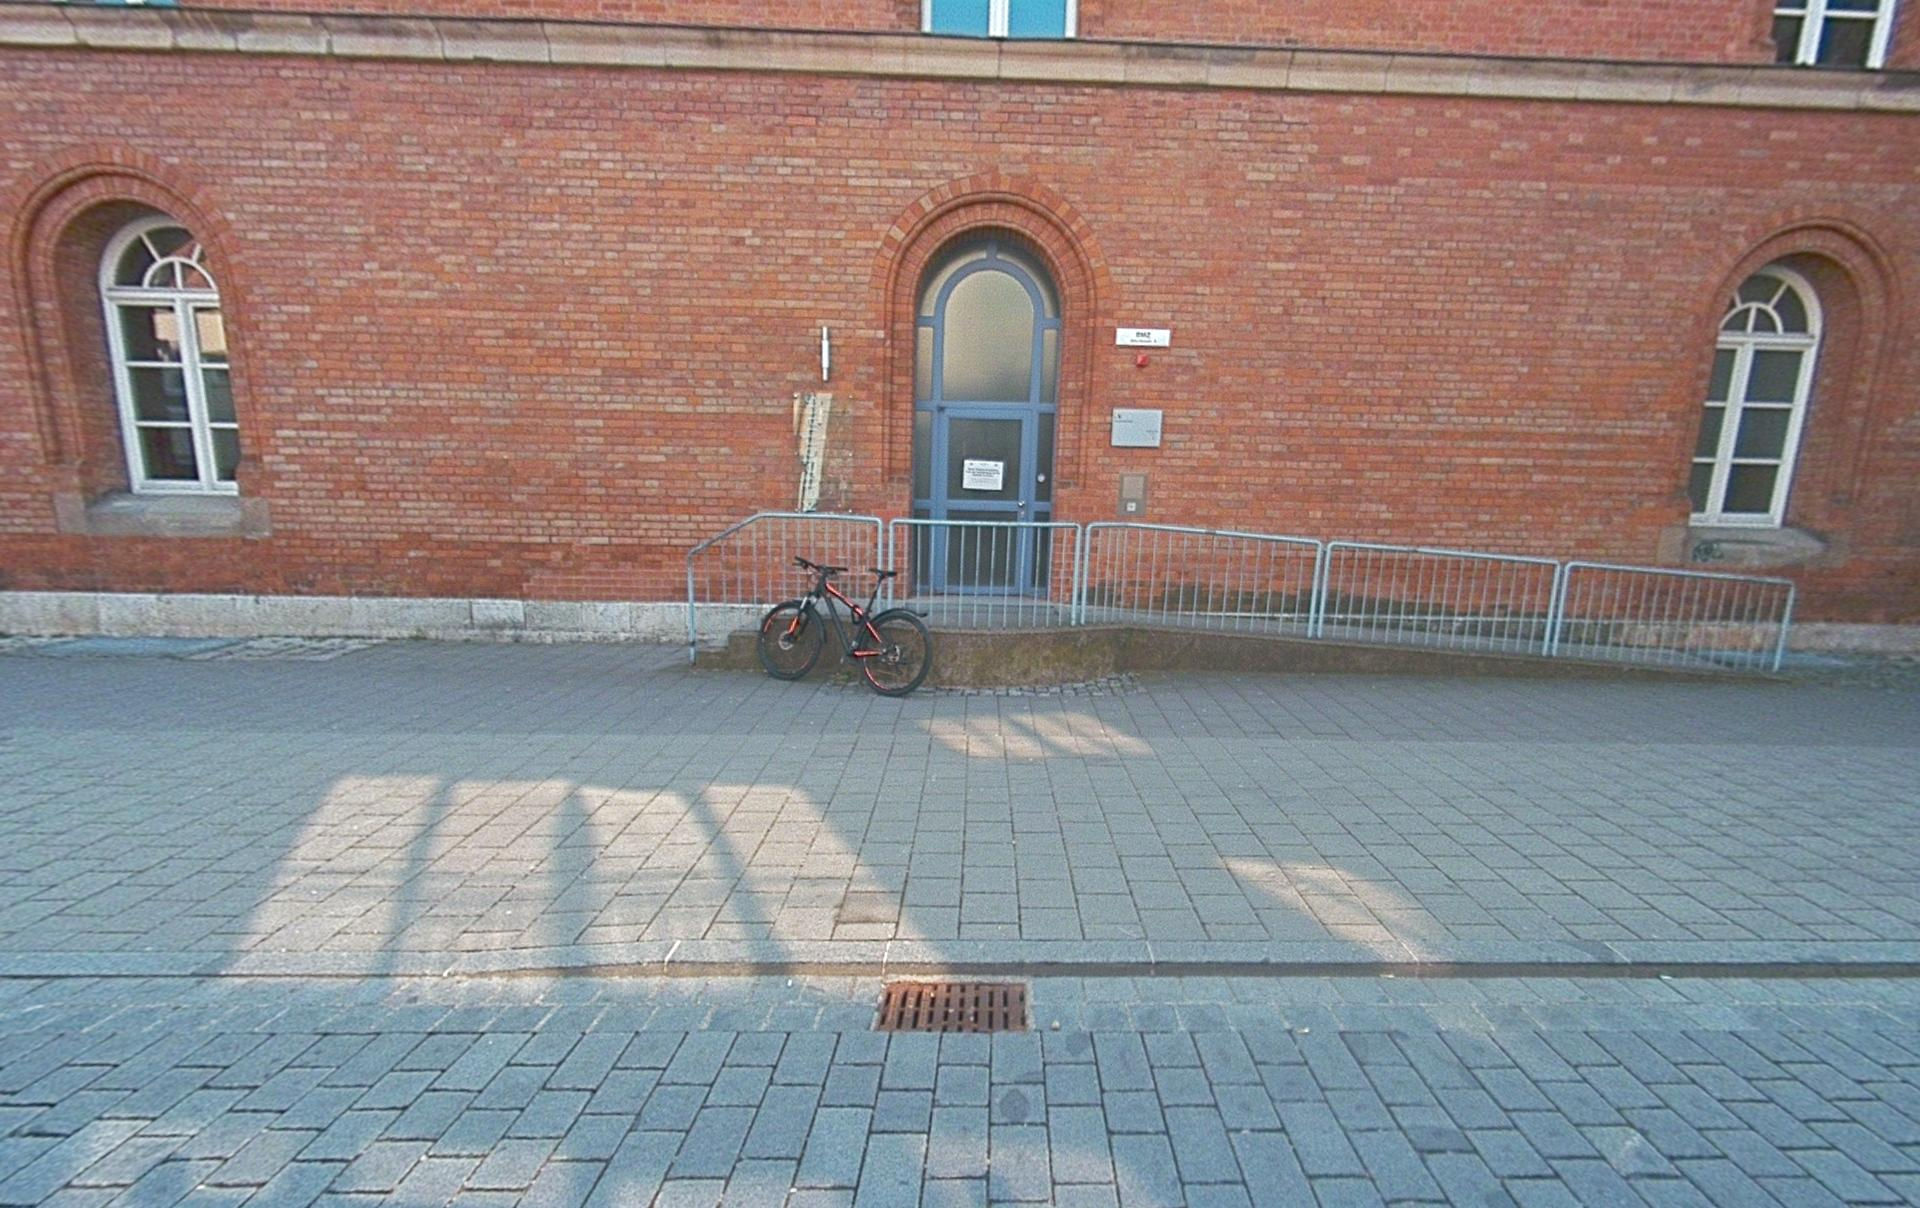traffic sign: (1114, 326, 1171, 348)
